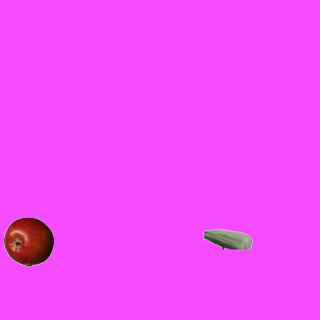Apple Braeburn: (3, 216, 53, 266)
Corn Husk: (202, 214, 252, 264)
